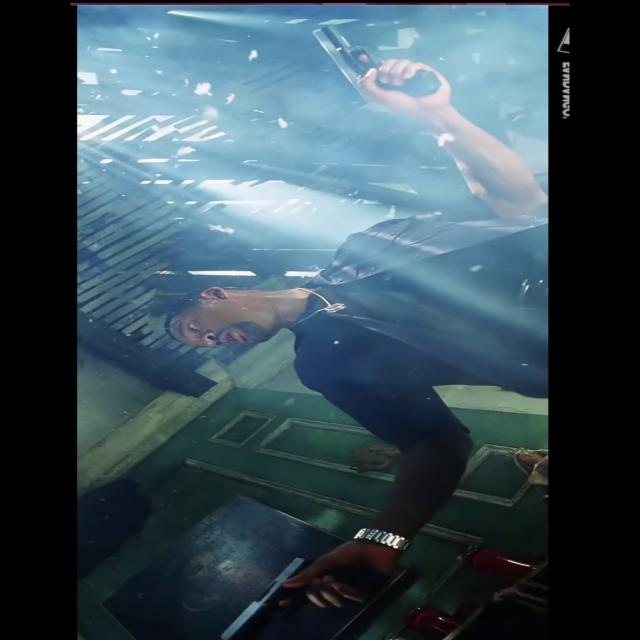weapons: (292, 19, 455, 113), (213, 549, 363, 640)
